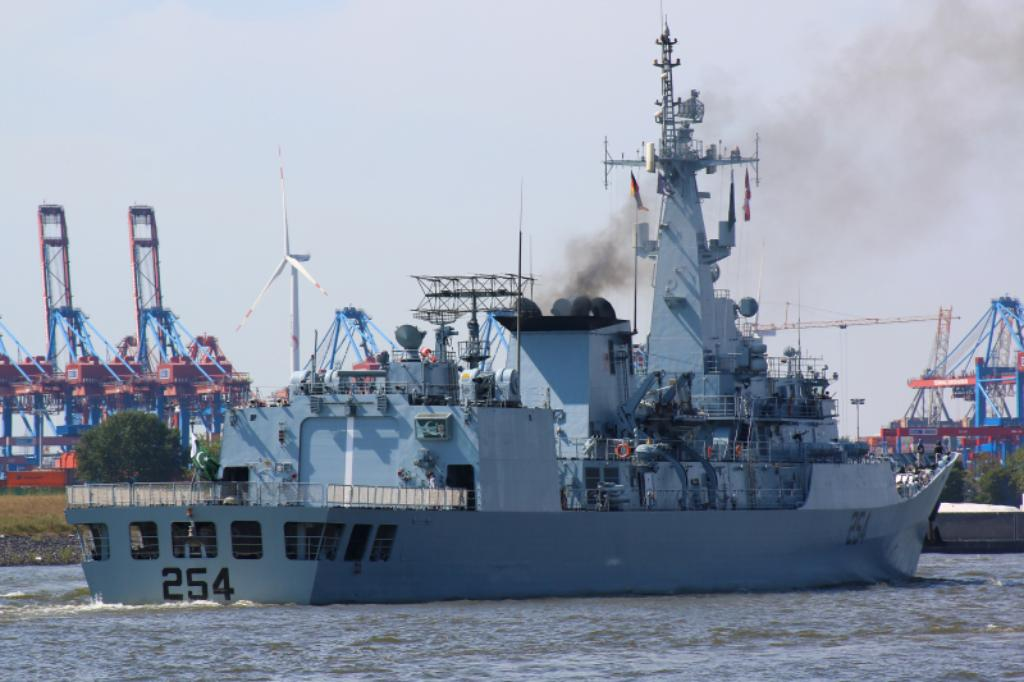Warship: (62, 0, 962, 612)
